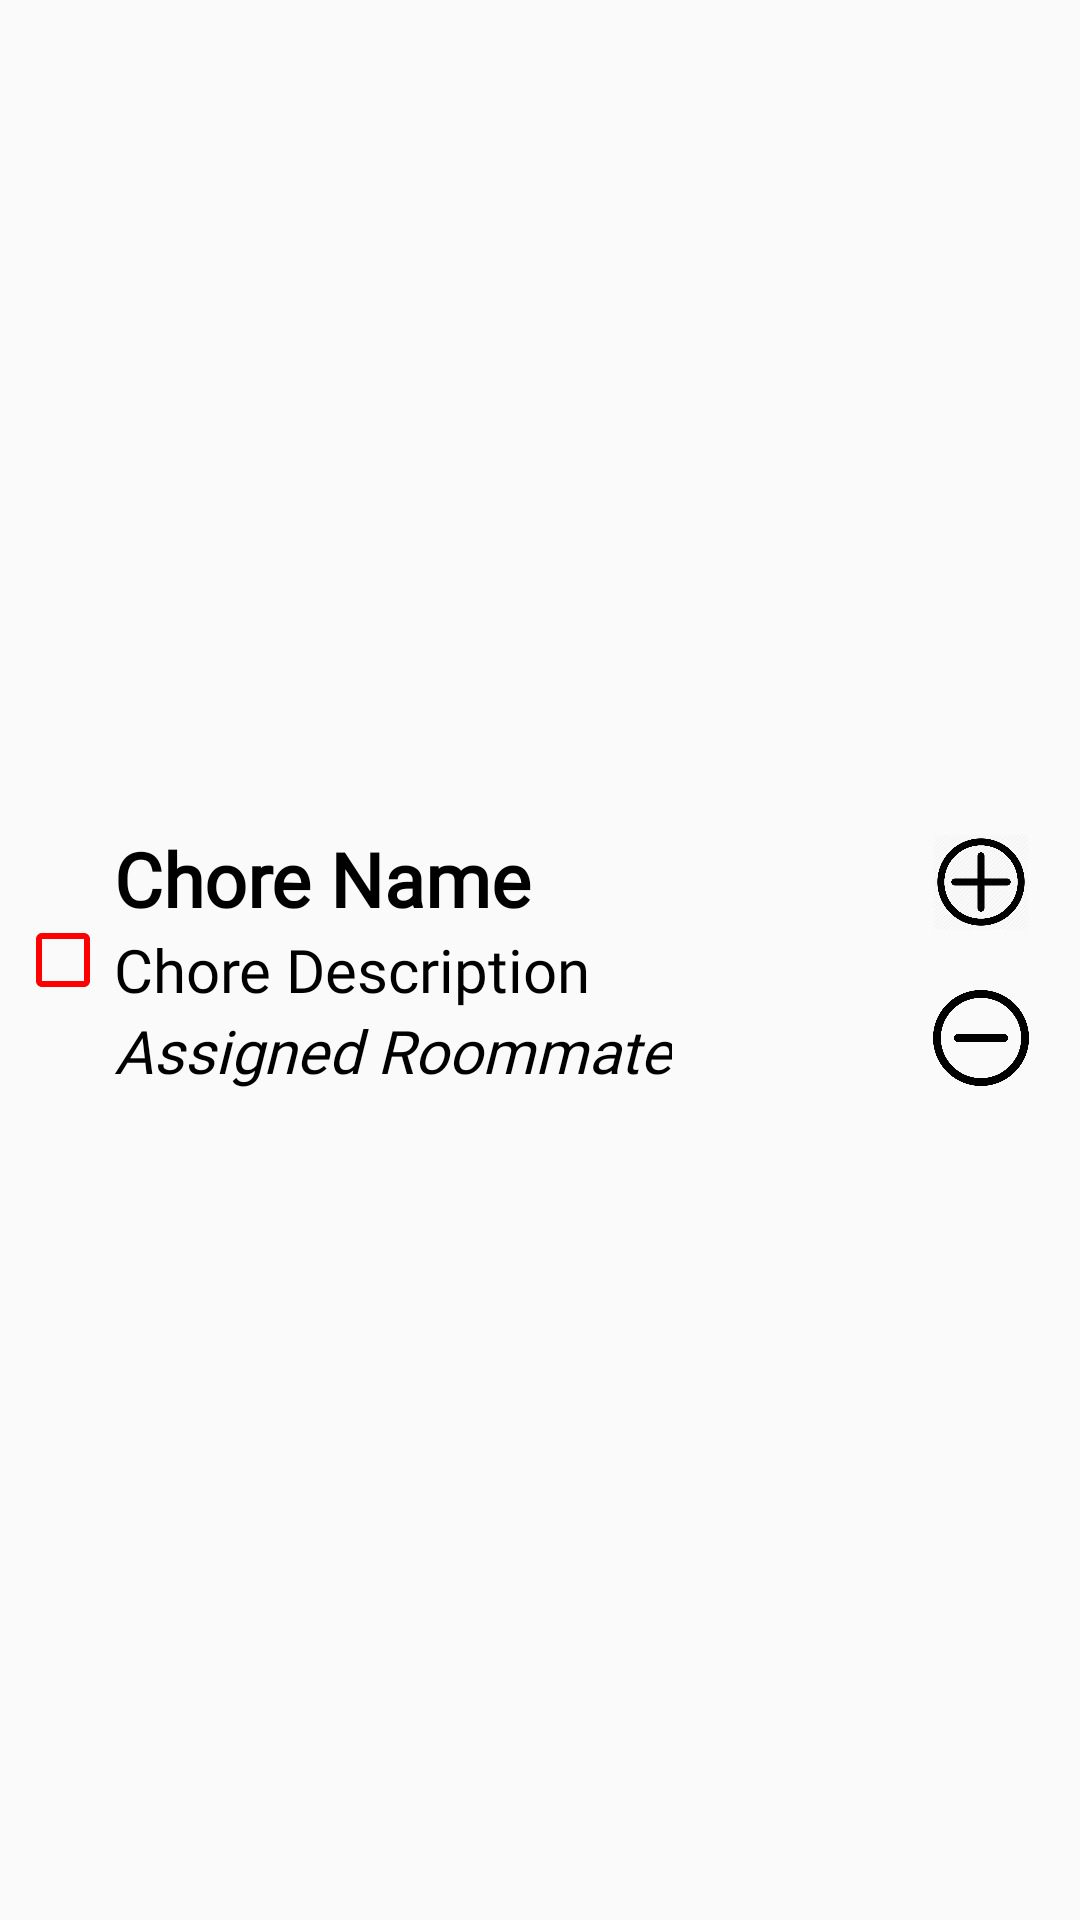

Icons on this 1080 x 1920 Android screen, each with the point to tap as (x=x, y=y):
decrease: (x=981, y=1038)
increase: (x=981, y=882)
